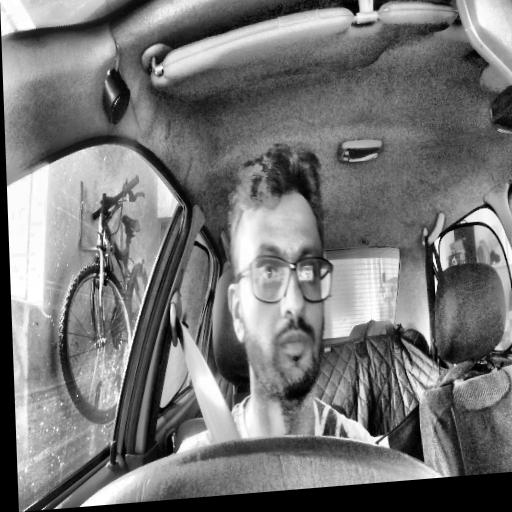awake: (221, 142, 339, 407)
